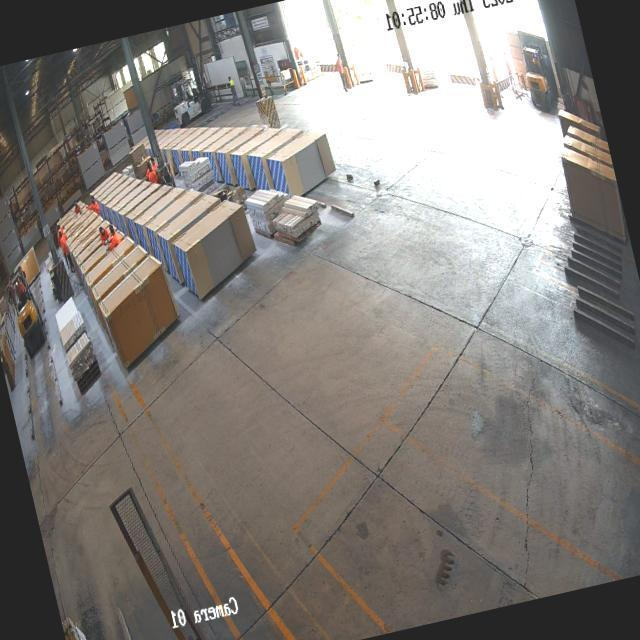forklift: (1, 262, 51, 356), (516, 38, 562, 119), (166, 72, 213, 130)
person: (56, 228, 74, 274), (104, 220, 122, 252), (334, 52, 346, 76)
